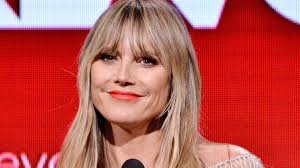white_female: (85, 26, 194, 121)
